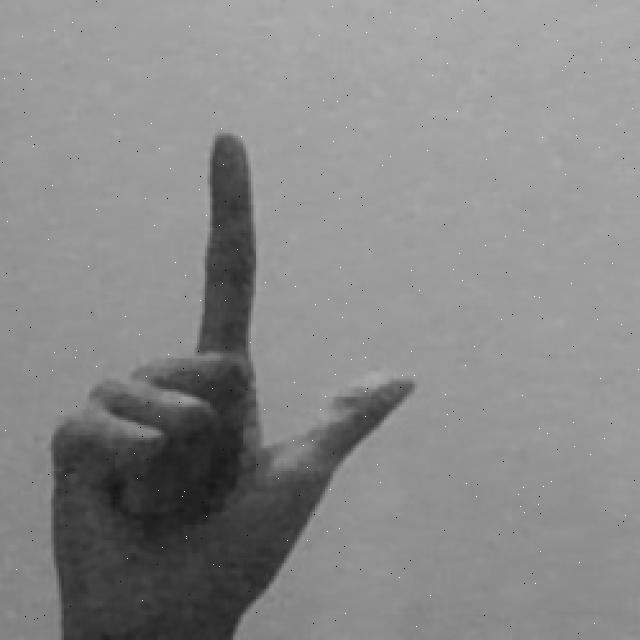L: (43, 123, 420, 640)
